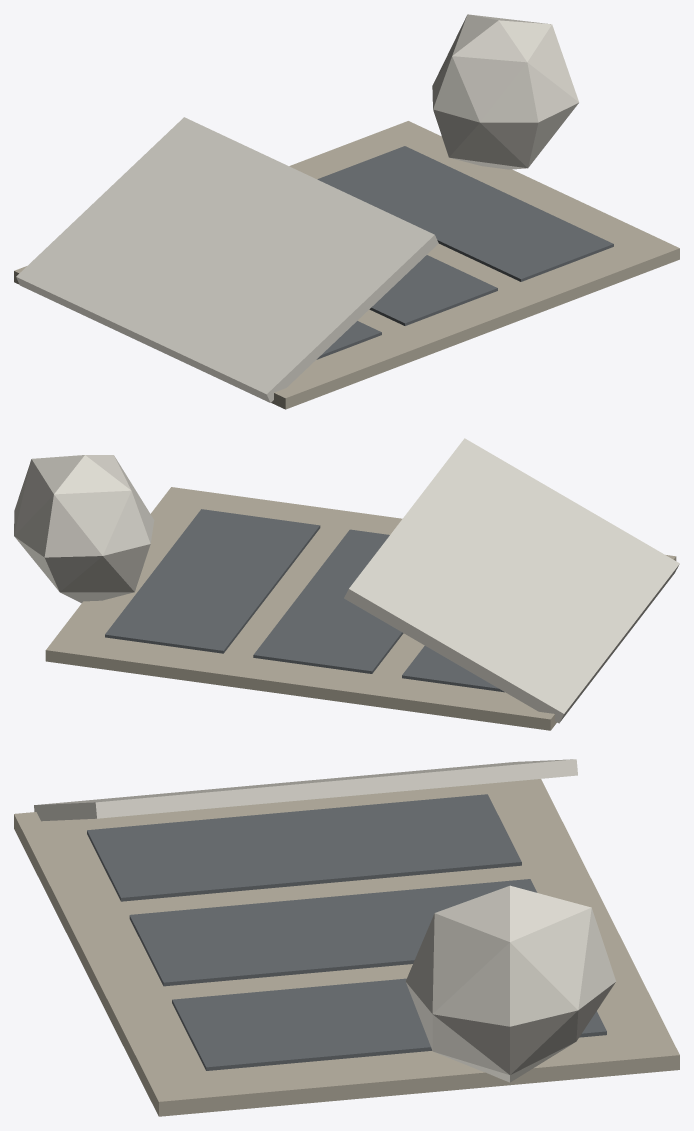
Rendered from debris_papier.glb.
3 views of the same model, one above another, from view 1: azimuth 30°, elevation 25°; view 2: azimuth 150°, elevation 25°; view 3: azimuth 270°, elevation 25° (orthographic). The views are drawn at different scales.
Parts seen in each view (by area): view 1: fold, sheet, columns, ball; view 2: fold, columns, sheet, ball; view 3: columns, sheet, ball, fold.
Boxes of the visible parts, x1=… form: fold: x1=16, y1=117, x2=438, y2=402; sheet: x1=14, y1=121, x2=679, y2=409; columns: x1=316, y1=146, x2=613, y2=359; ball: x1=432, y1=14, x2=579, y2=169; fold: x1=344, y1=438, x2=679, y2=723; columns: x1=105, y1=509, x2=504, y2=692; sheet: x1=45, y1=487, x2=676, y2=730; ball: x1=14, y1=455, x2=154, y2=603; columns: x1=87, y1=794, x2=606, y2=1070; sheet: x1=14, y1=779, x2=679, y2=1116; ball: x1=405, y1=885, x2=615, y2=1082; fold: x1=34, y1=759, x2=577, y2=821.
Size of the model in its own units: 0.204 by 0.054 by 0.1625.
Materials: 3 (3 with a texture image).
